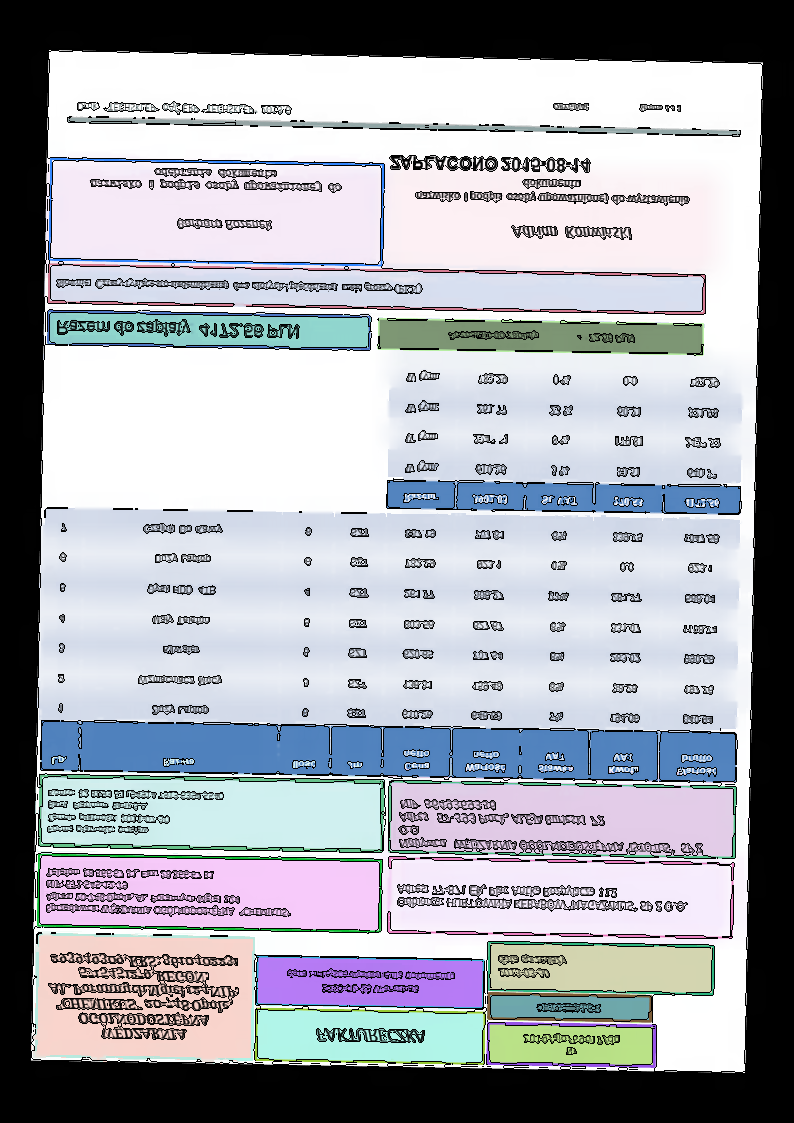Table: (38, 504, 743, 784), (384, 356, 745, 517)
TextBox: (396, 796, 706, 858), (45, 949, 243, 1043), (42, 864, 294, 920), (394, 880, 690, 916), (413, 176, 694, 210), (46, 787, 224, 840), (54, 274, 424, 298), (88, 164, 344, 198), (55, 316, 301, 343), (283, 966, 456, 1000), (387, 152, 590, 177), (74, 99, 295, 120), (444, 326, 636, 346), (521, 1030, 623, 1059), (313, 1026, 427, 1048), (495, 951, 569, 984), (509, 223, 633, 242), (552, 100, 684, 117), (173, 216, 276, 234), (533, 1001, 604, 1017)
